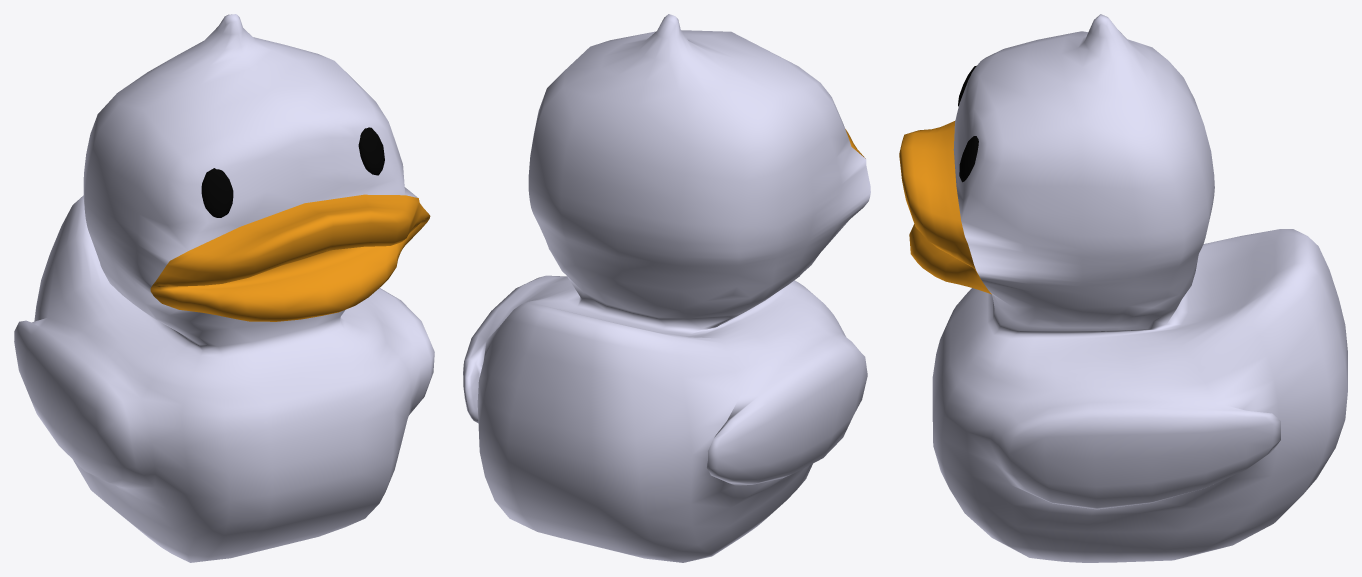
The model's file is White_duckie.FBX.
3 renders of one model, left to right at view 1: azimuth 30°, elevation 25°; view 2: azimuth 150°, elevation 25°; view 3: azimuth 270°, elevation 25°, orthographic. The views are drawn at different scales.
Parts seen in each view (by area): view 1: duckie, duckie_mouth, eye_left, eye_right; view 2: duckie; view 3: duckie, duckie_mouth, eye_right.
Boxes of the visible parts, x1=… form: duckie: x1=14, y1=14, x2=434, y2=562; duckie_mouth: x1=150, y1=194, x2=430, y2=321; eye_left: x1=201, y1=168, x2=233, y2=217; eye_right: x1=358, y1=127, x2=384, y2=175; duckie: x1=463, y1=14, x2=870, y2=562; duckie: x1=932, y1=14, x2=1347, y2=562; duckie_mouth: x1=899, y1=121, x2=991, y2=294; eye_right: x1=959, y1=136, x2=978, y2=182.
Size of the model in its own units: 3.42 by 5.08 by 4.01.
